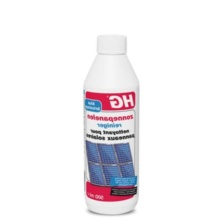cleaning_solution: (80, 32, 145, 216)
